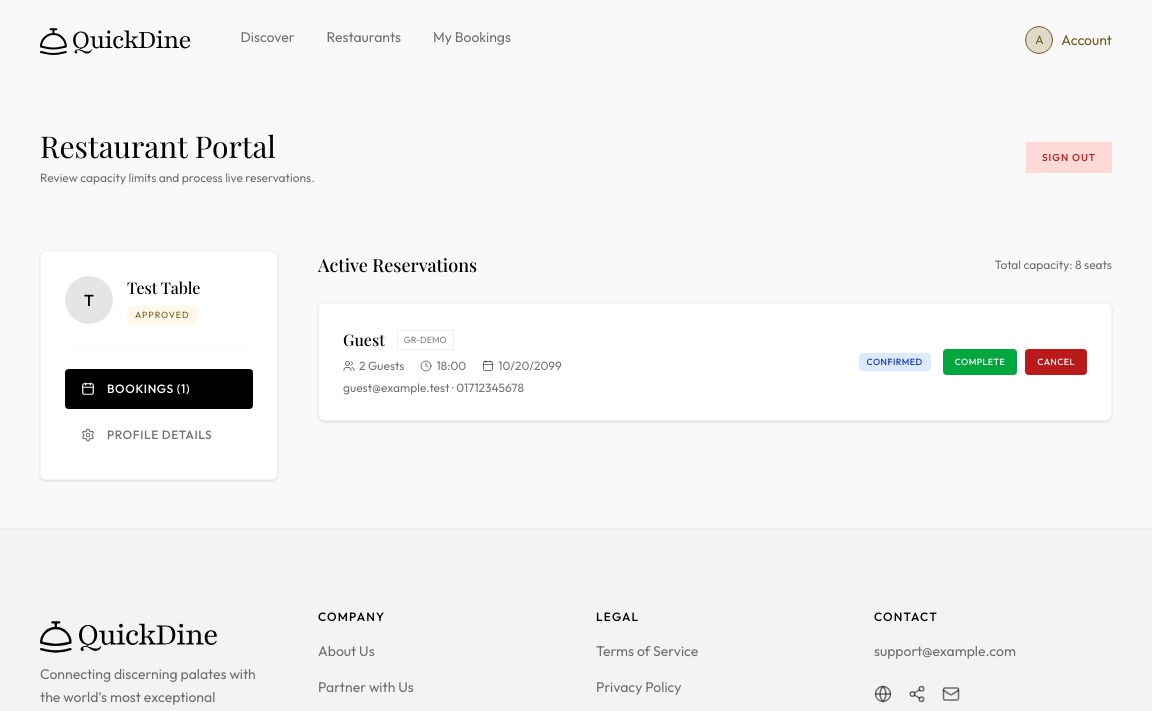
complete page journeys › owner switches between bookings and restaurant settings
Check: the heading "Active Reservations" is shown, box [318,251,477,279]
Click the button "Profile Details" at x=159, y=435, box [65,415,253,455]
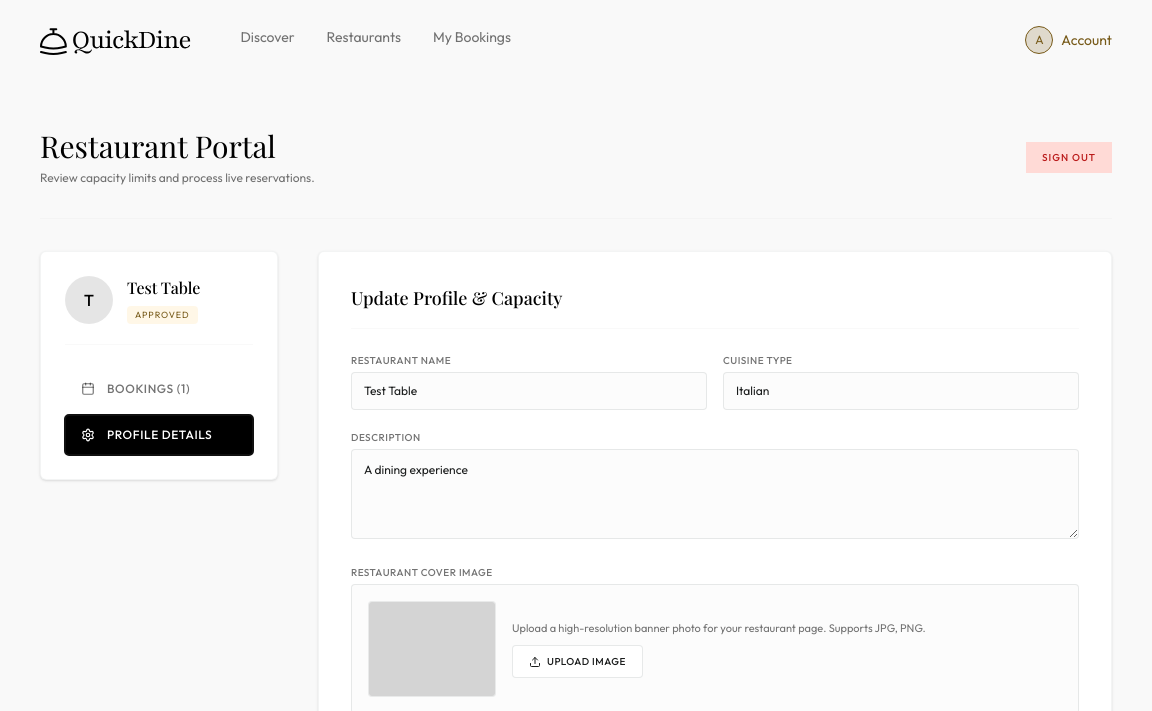
Check: the field named "Restaurant name" is shown, box [351,372,707,410]
